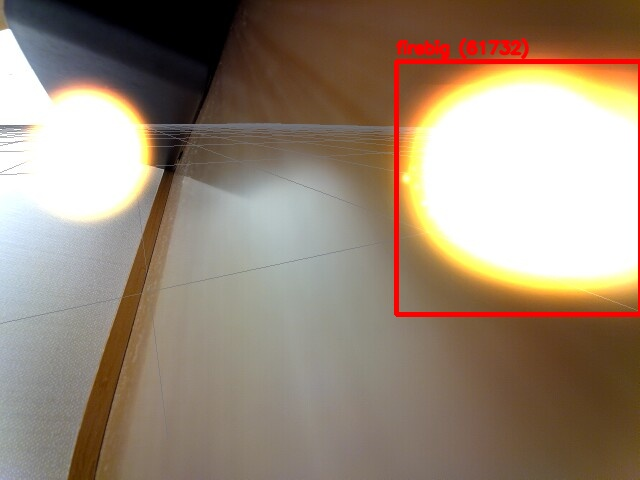firebig: (396, 61, 640, 314)
